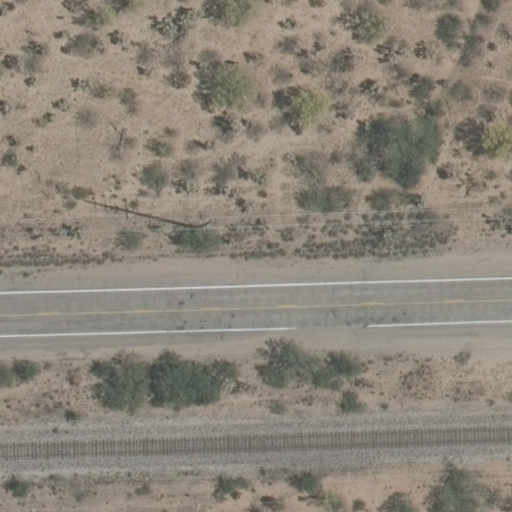DT: (195, 214, 216, 238)
